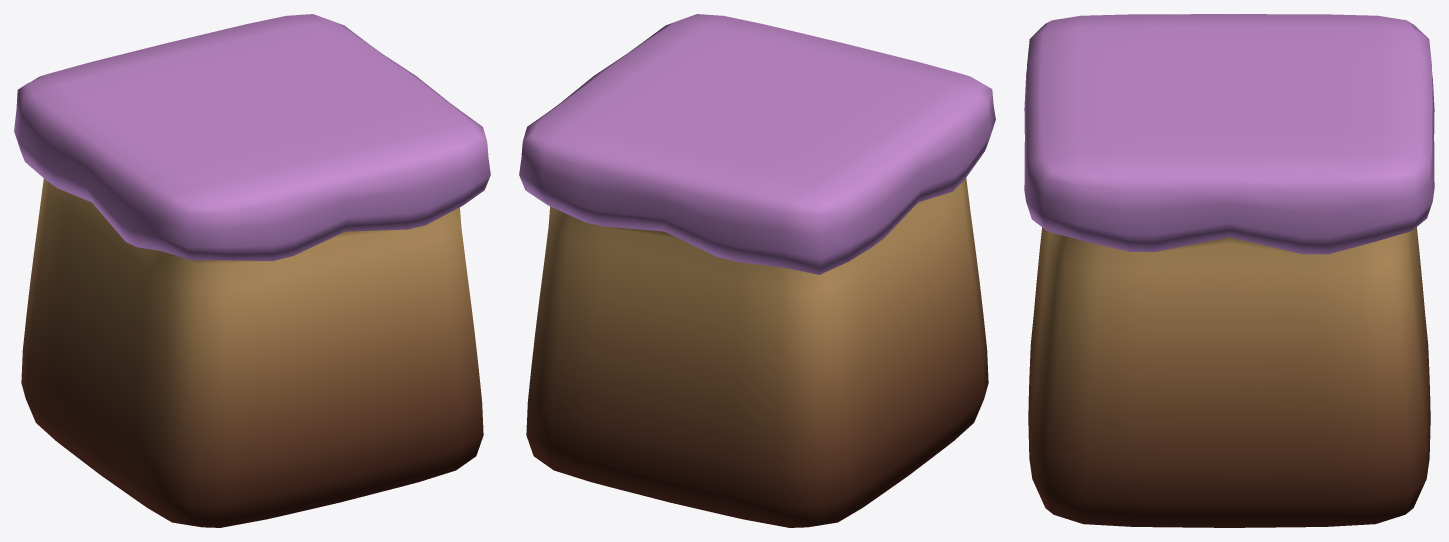
The model's file is TileCandy.fbx.
3 renders of one model, left to right at view 1: azimuth 30°, elevation 25°; view 2: azimuth 150°, elevation 25°; view 3: azimuth 270°, elevation 25°, orthographic. The views are drawn at different scales.
Parts seen in each view (by area): view 1: TileCandy; view 2: TileCandy; view 3: TileCandy.
Part boxes in pixels (x1,y1,x2,y2): TileCandy: [14, 14, 490, 527]; TileCandy: [519, 14, 995, 527]; TileCandy: [1024, 14, 1434, 527].
Bounding box in the file's own units: 2 × 2 × 2.
